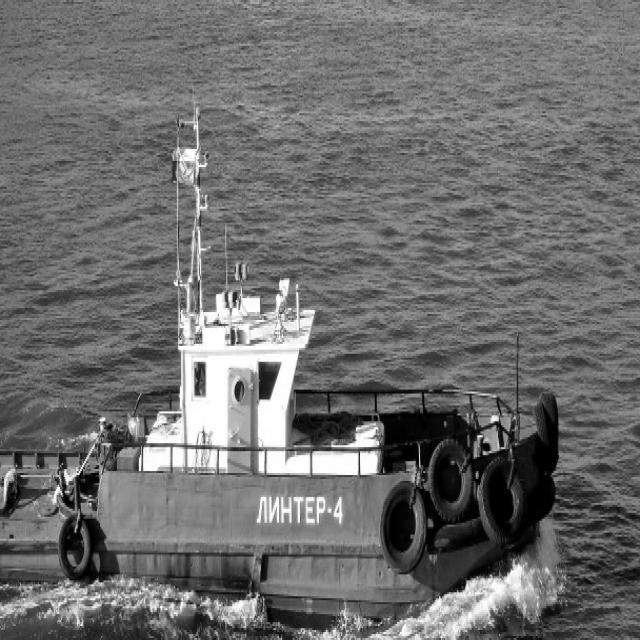tugboat: (1, 259, 565, 640)
